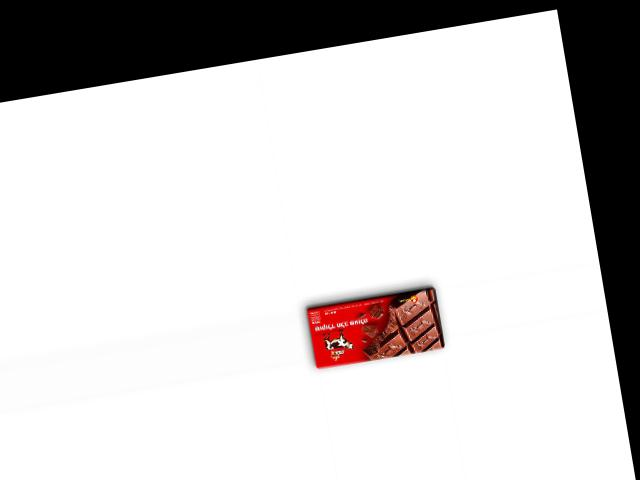chocolate: (301, 281, 448, 373)
